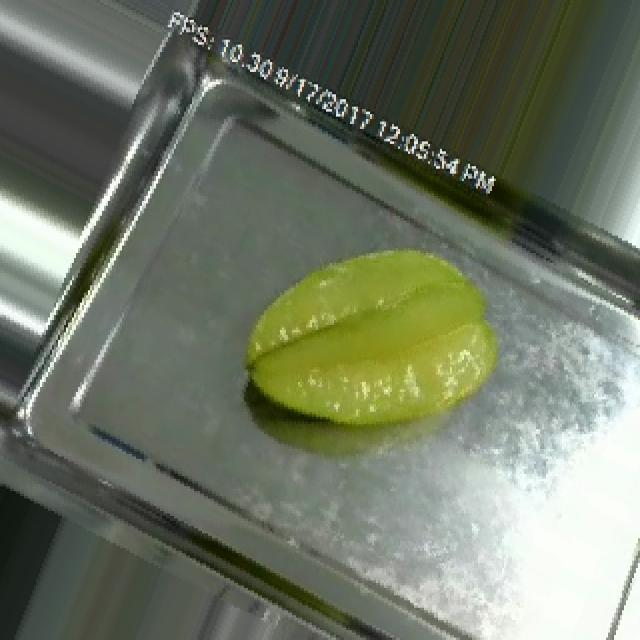fruit: (198, 191, 542, 494)
